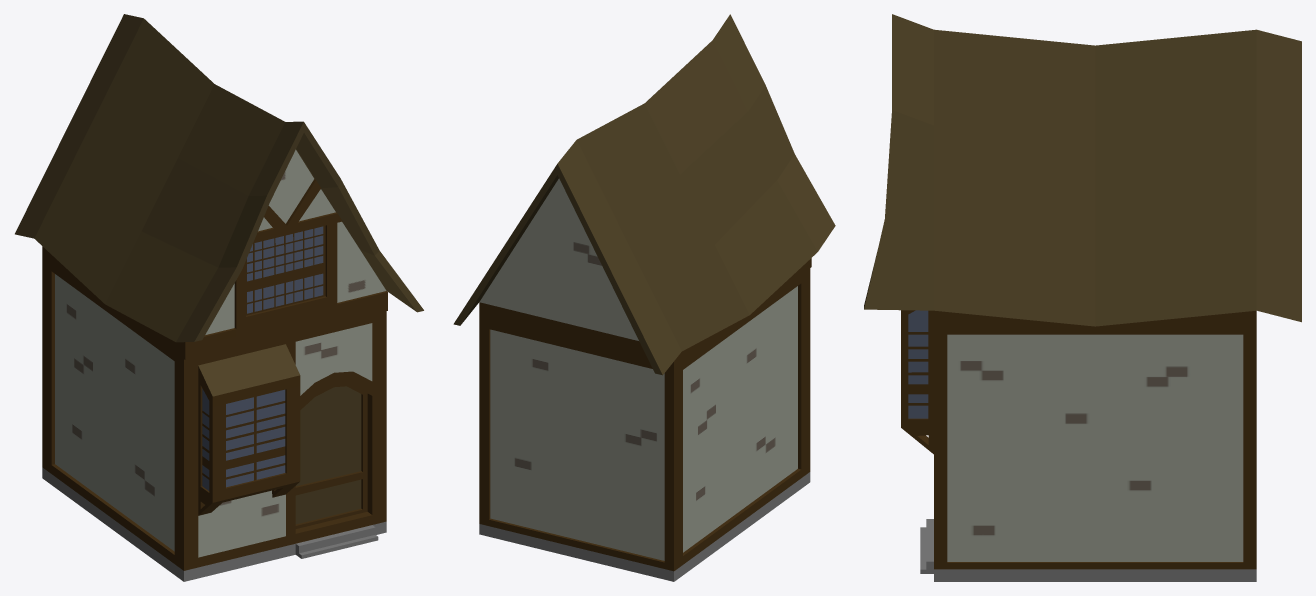
The model's file is medieval_building_004.glb.
The picture shows the model from 3 angles, left to right: view 1: azimuth 30°, elevation 25°; view 2: azimuth 150°, elevation 25°; view 3: azimuth 270°, elevation 25°; orthographic projection. The views are drawn at different scales.
Parts seen in each view (by area): view 1: Cube.001; view 2: Cube.001; view 3: Cube.001.
Boxes of the visible parts, bbox=[...] form: Cube.001: bbox=[15, 14, 423, 581]; Cube.001: bbox=[453, 14, 835, 581]; Cube.001: bbox=[864, 14, 1301, 581].
Size of the model in its own units: 327 by 643 by 499.
Materials: 1 (1 with a texture image).
